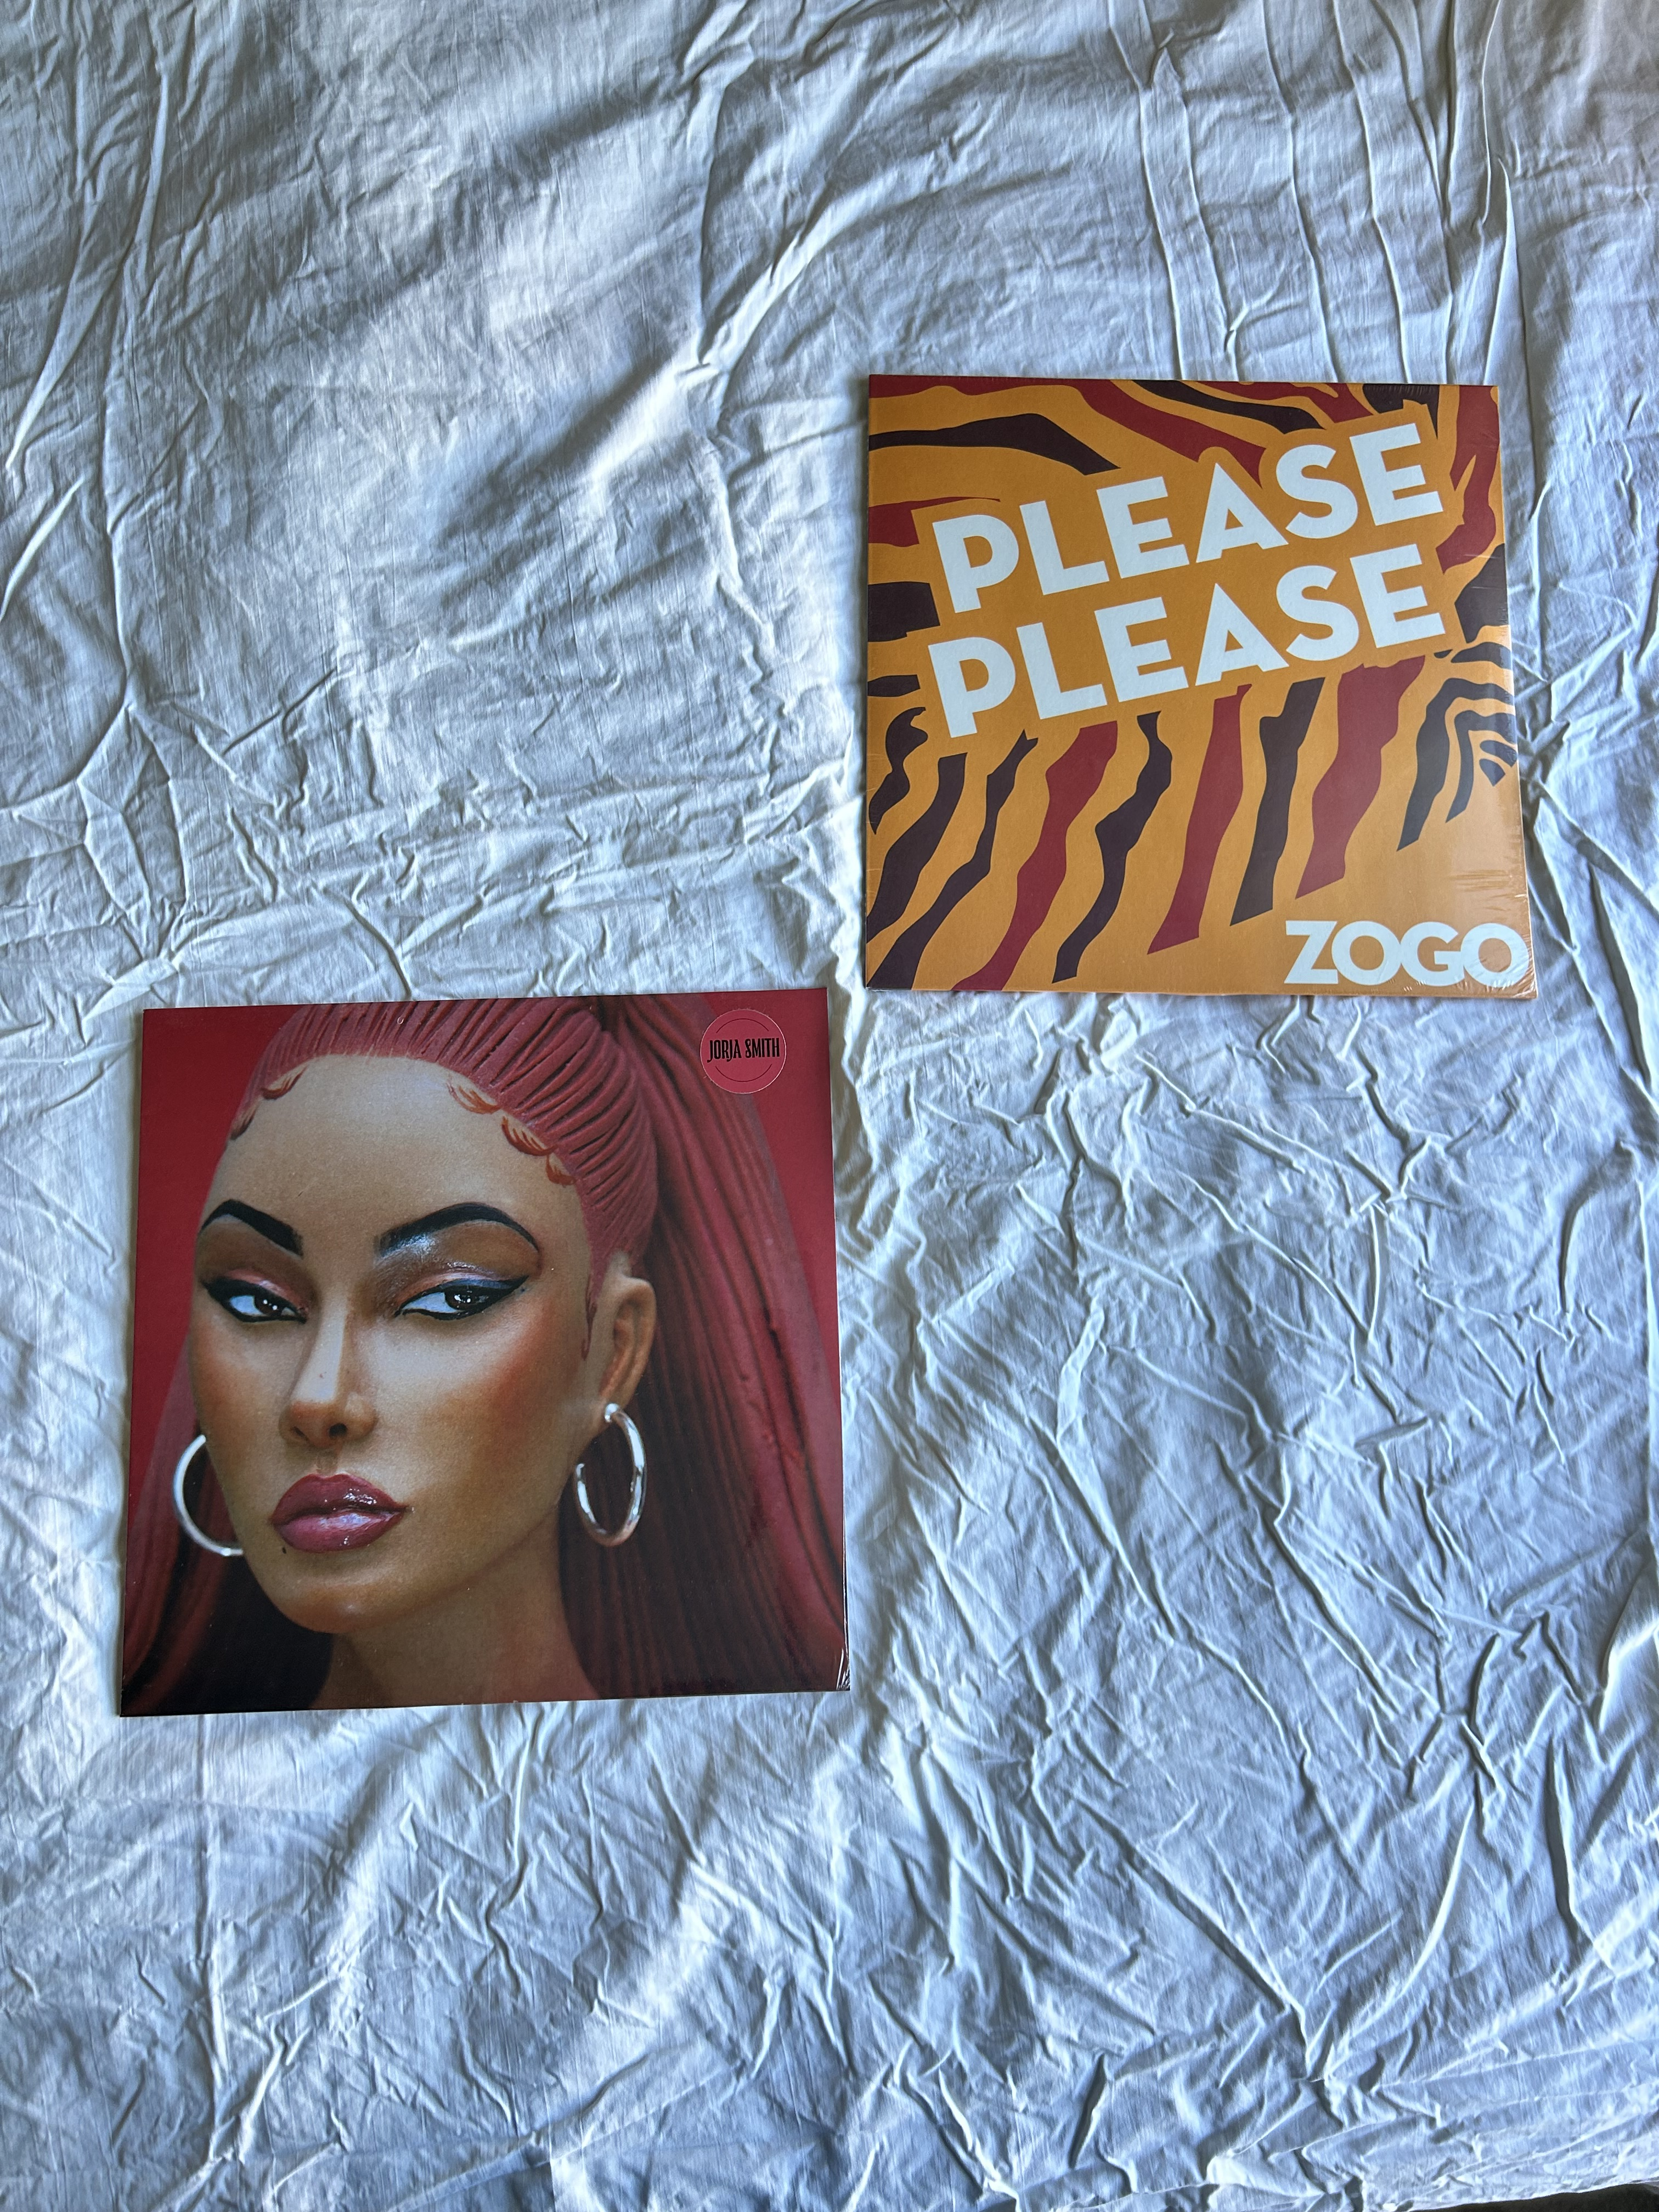jorja smith_be right back: (87, 1000, 840, 1723)
zogo_please please: (856, 368, 1544, 1000)
